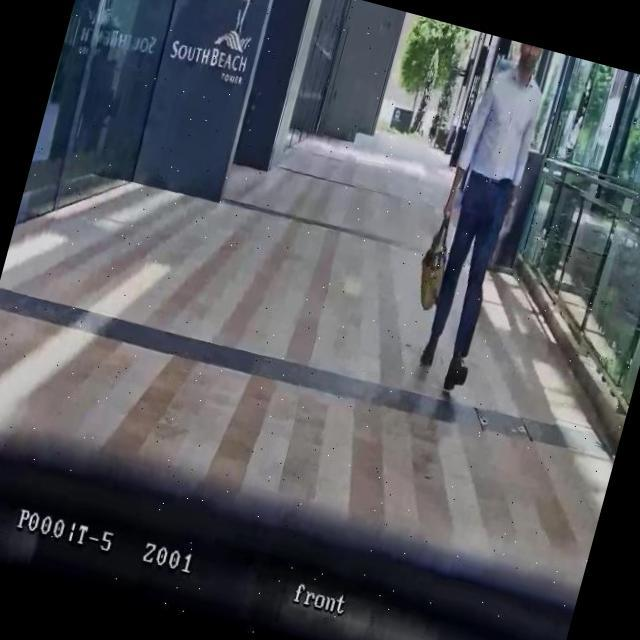person: (398, 34, 556, 389)
